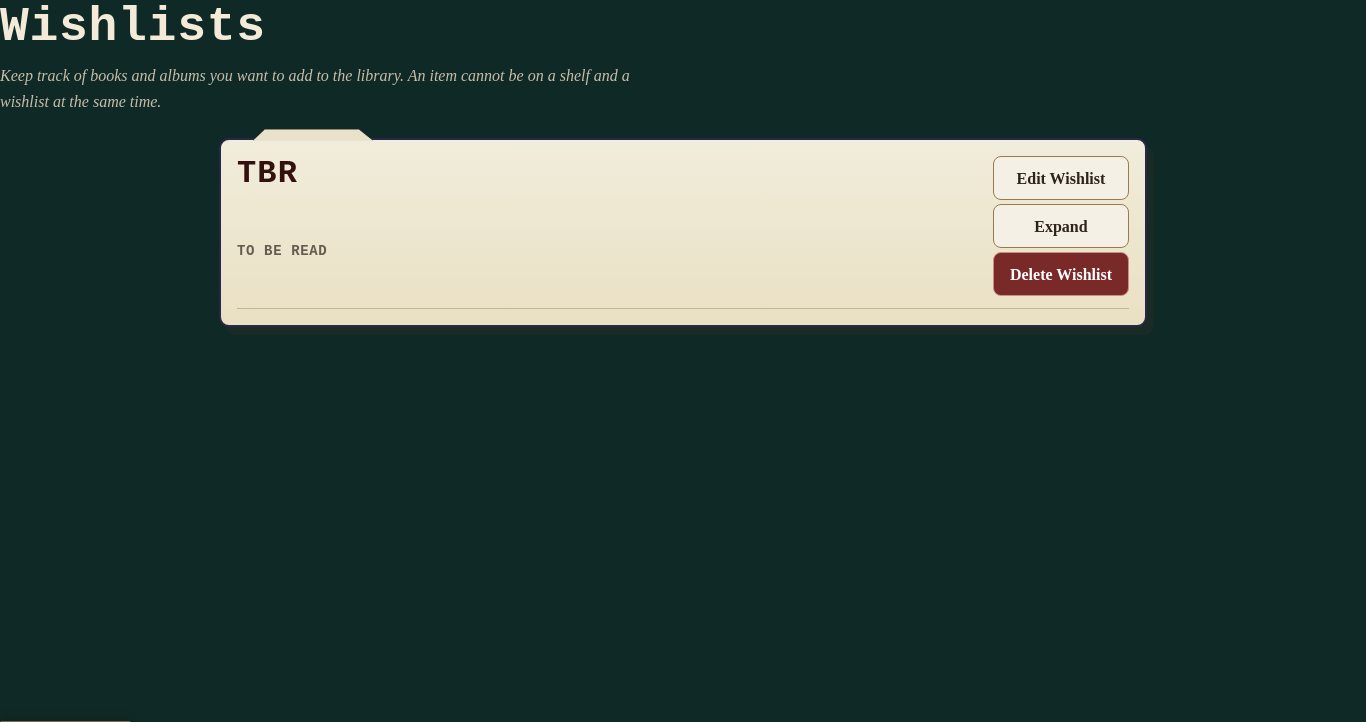
WishlistsPage › closes the delete dialog on cancel and surfaces delete errors
The width and height of the screenshot is (1366, 722).
Click the button "Delete Wishlist" at (1061,274), box [993,252,1129,296]
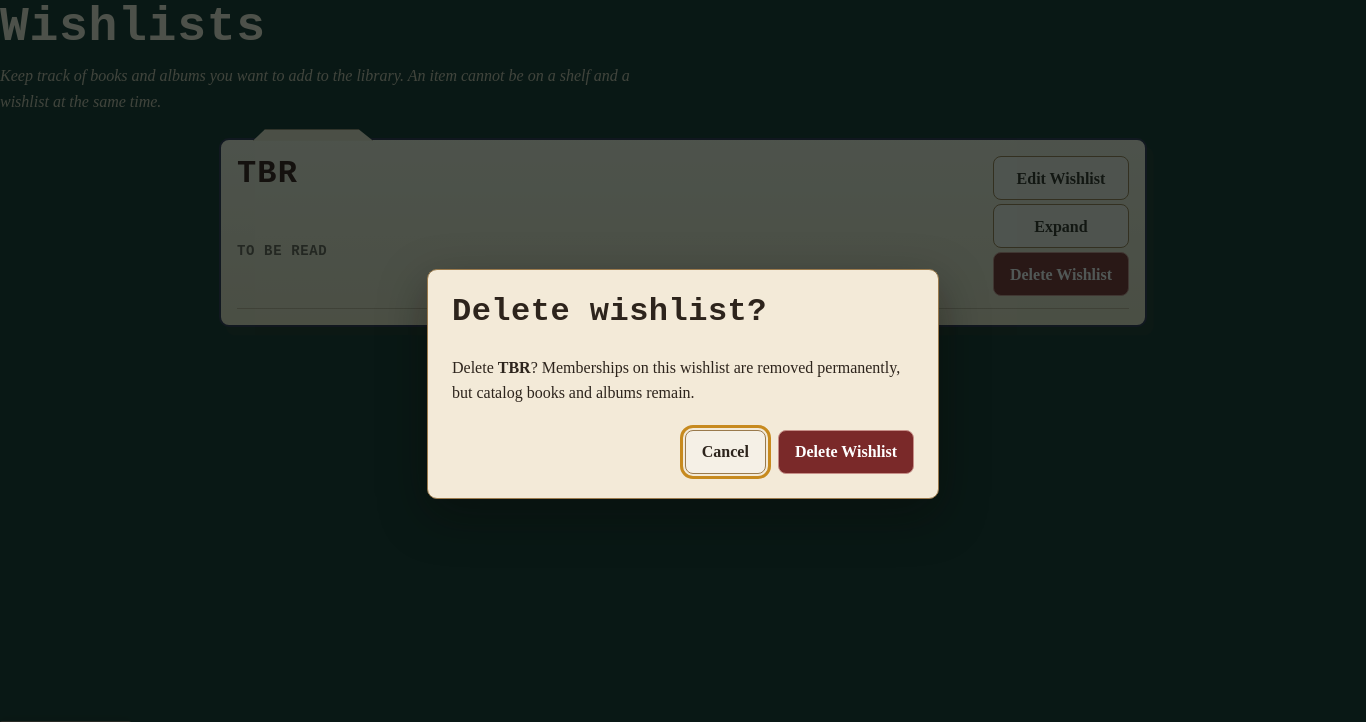
Click the button "Cancel" at (725,452), box [685,430,766,474]
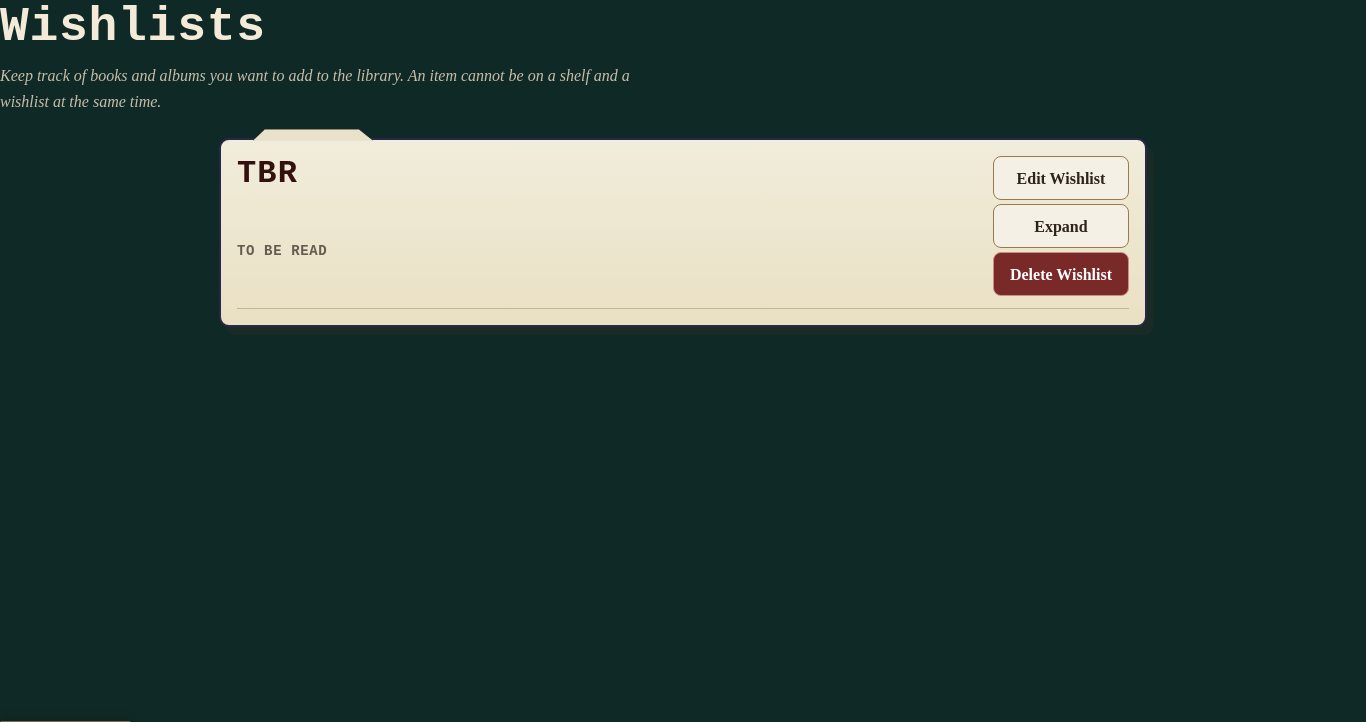
Click the button "Delete Wishlist" at (1061,274), box [993,252,1129,296]
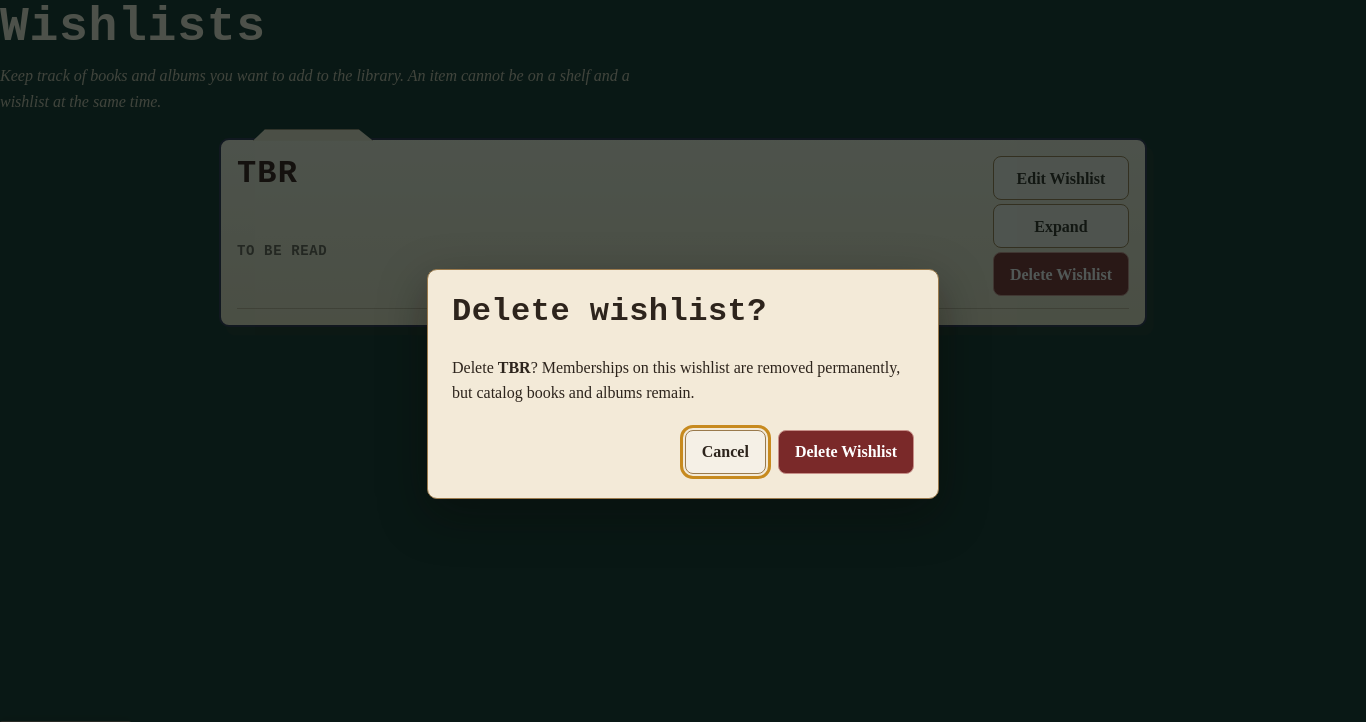
Click the button "Delete Wishlist" at (846,452), box [778,430,914,474]
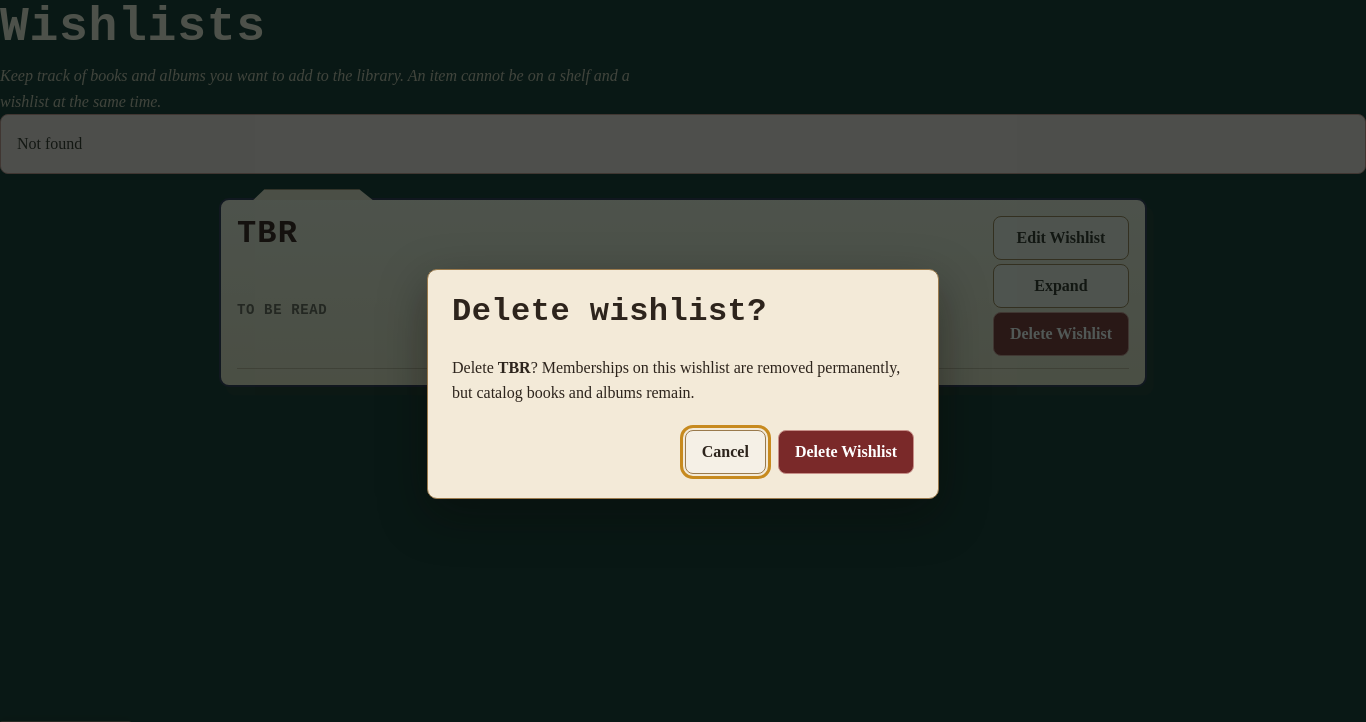
Expected: the text "Not found" is shown, [17,135,82,152]
